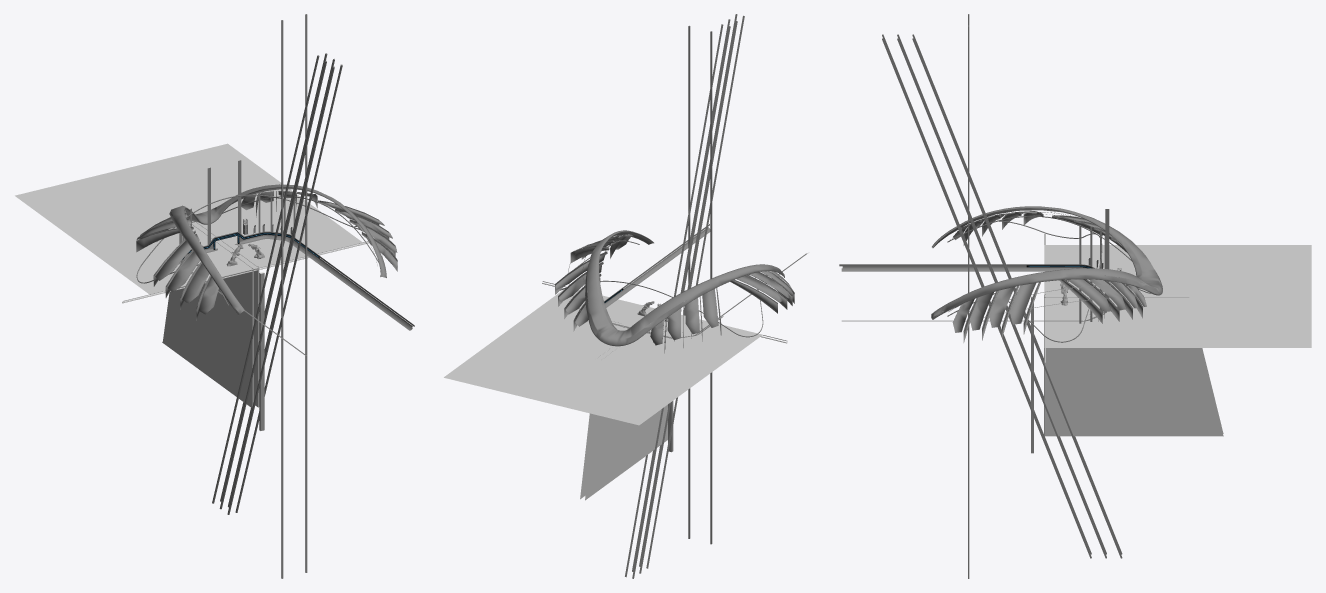
Rendered from rocket.glb.
3 renders of one model, left to right at view 1: azimuth 30°, elevation 25°; view 2: azimuth 150°, elevation 25°; view 3: azimuth 270°, elevation 25°, orthographic. The views are drawn at different scales.
Parts seen in each view (by area): view 1: Mirror, RocketArena, Construction (×2), BackColumns; view 2: Mirror, RocketArena, BackColumns, Construction; view 3: Mirror, Construction, RocketArena, BackColumns.
Part boxes in pixels (x1,y1,x2,y2): Mirror: (15, 143, 362, 294); RocketArena: (136, 160, 414, 355); Construction (×2): (122, 222, 369, 430); BackColumns: (212, 14, 342, 578); Mirror: (444, 289, 762, 425); RocketArena: (555, 224, 807, 353); BackColumns: (625, 14, 744, 578); Construction: (542, 281, 787, 500); Mirror: (1044, 245, 1311, 347); Construction: (1044, 234, 1223, 436); RocketArena: (839, 206, 1162, 342); BackColumns: (882, 14, 1122, 578).
Size of the model in its own units: 200 by 400 by 310.
11 materials, 2 textured.
